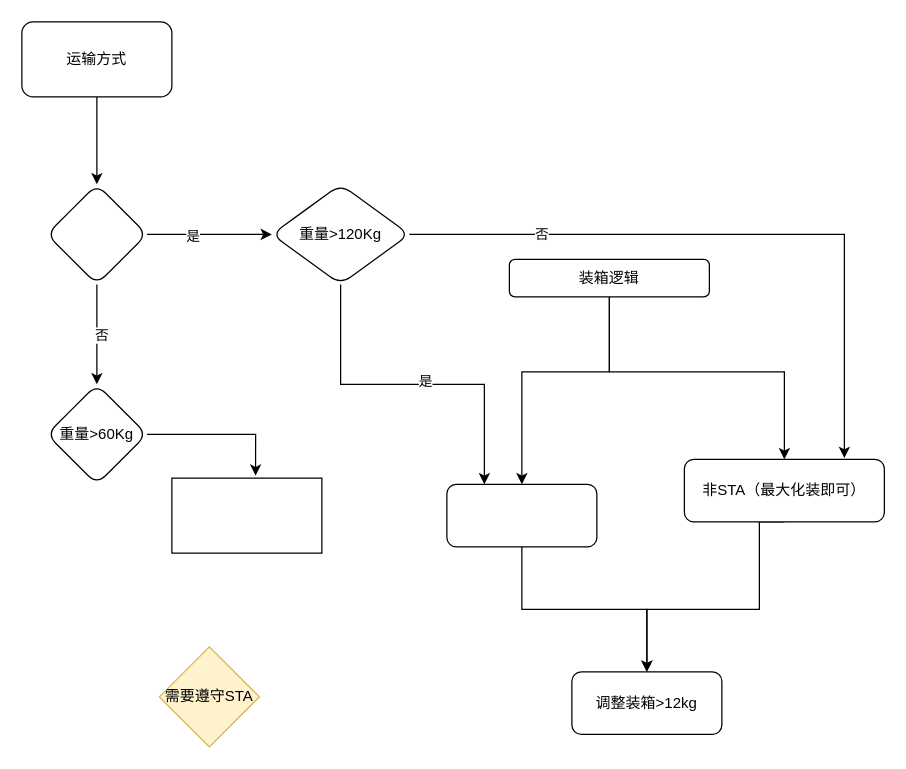
The diagram is 906 pixels wide and 769 high, and some of its shapes have lost their labels. Here are the shapes that lost their labels. From the top down, the centre of each, then its label:
At point 96,233: "快递".
At point 246,515: "计算箱子数量".
At point 521,515: "STA装箱".
